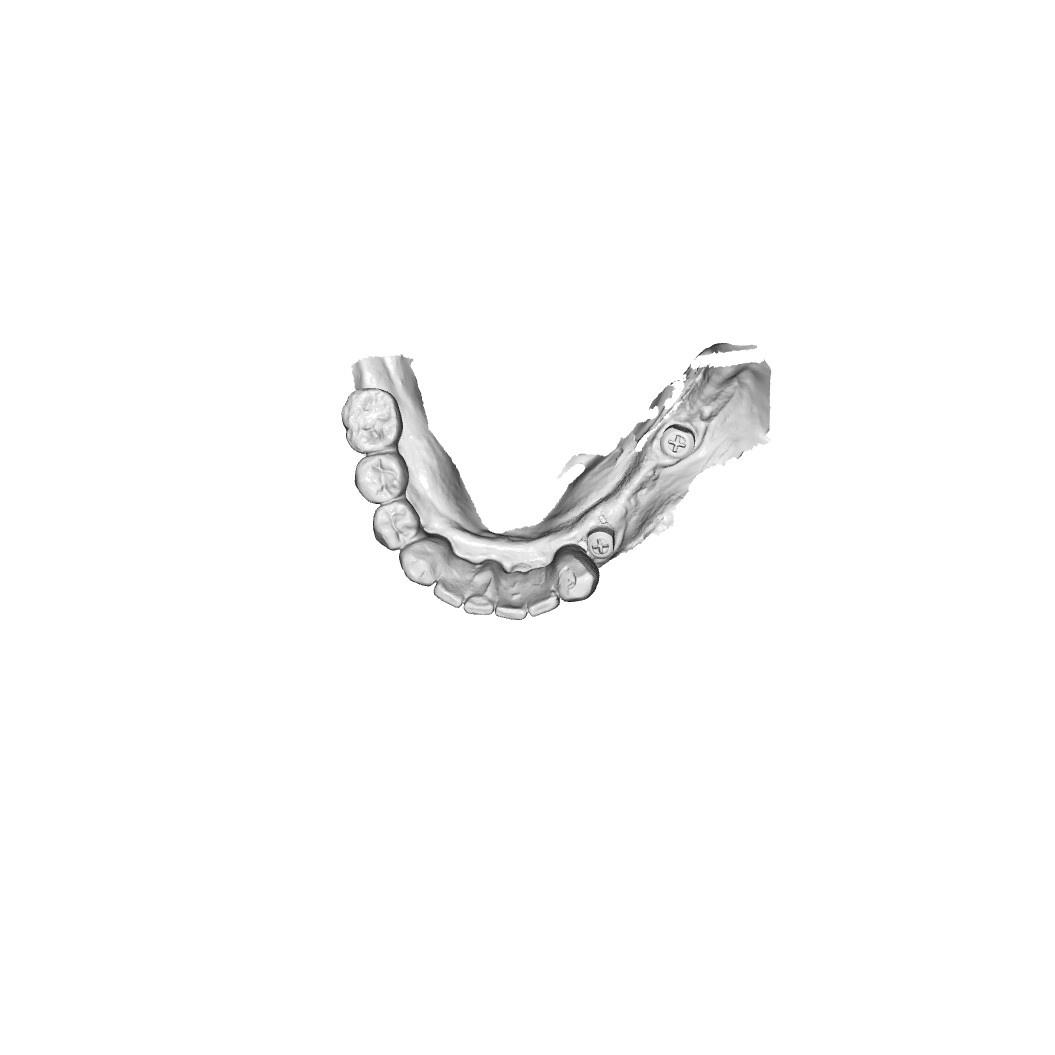canine: (554, 548, 601, 604), (400, 537, 449, 587)
implant_plus: (657, 421, 700, 465), (585, 528, 618, 560)
incisor: (500, 567, 534, 620), (528, 569, 561, 615), (436, 563, 465, 610), (465, 568, 492, 616)
molar: (345, 392, 405, 452)
premolar: (354, 454, 404, 501), (370, 501, 414, 551)
